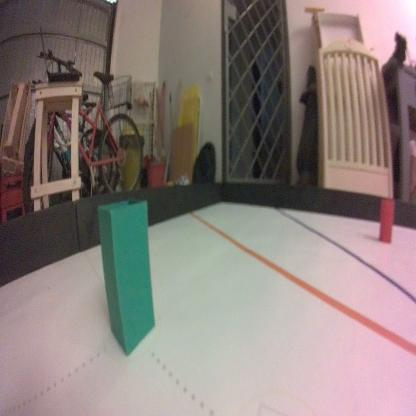green: (98, 196, 160, 360)
red: (376, 195, 394, 246)
